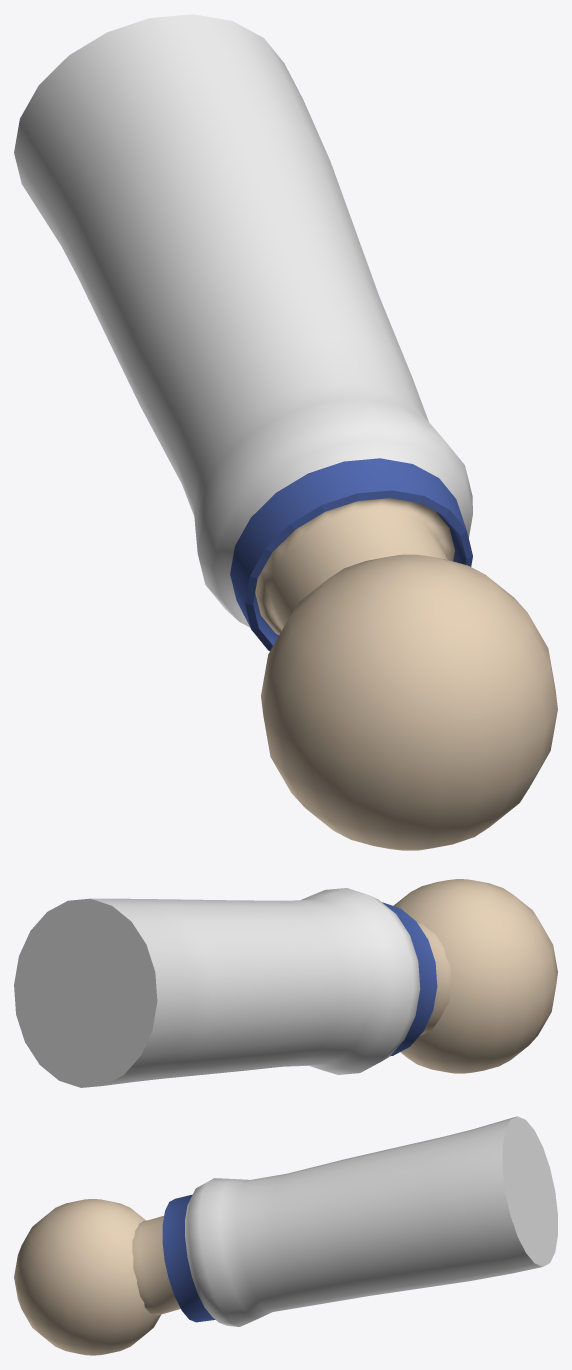
Rendered from arm.fbx.
3 views of the same model, one above another, from view 1: azimuth 30°, elevation 25°; view 2: azimuth 150°, elevation 25°; view 3: azimuth 270°, elevation 25° (orthographic). The views are drawn at different scales.
Visible parts, largest first — view 1: polySurface6; view 2: polySurface6; view 3: polySurface6.
Boxes of the visible parts, x1,y1,x2,y2 form: polySurface6: (14, 14, 557, 850); polySurface6: (14, 879, 557, 1087); polySurface6: (14, 1116, 557, 1355).
Bounding box in the file's own units: 1.16 × 1.36 × 2.54.
